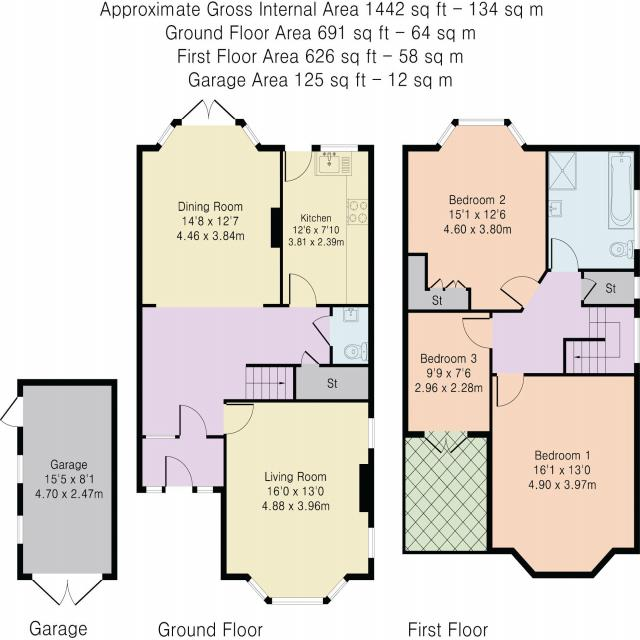DOOR: (498, 275, 541, 310), (223, 402, 255, 436), (284, 145, 313, 182), (165, 455, 193, 493), (461, 317, 493, 350), (550, 237, 579, 272), (288, 273, 317, 308), (496, 373, 525, 407), (179, 404, 207, 439), (311, 315, 333, 347)
DOUBLE DOOR: (174, 92, 239, 125)
ROOM: (486, 373, 640, 579), (221, 399, 375, 605), (136, 97, 283, 308), (402, 118, 549, 313), (271, 145, 374, 308), (402, 309, 493, 455)
WINDOW: (247, 577, 269, 602), (326, 577, 348, 602), (436, 122, 456, 148), (507, 122, 526, 148), (156, 123, 176, 147), (242, 123, 261, 148), (633, 189, 640, 250), (271, 597, 324, 605), (458, 118, 505, 126), (633, 317, 640, 364), (320, 144, 359, 152), (368, 527, 375, 559), (368, 417, 375, 449), (633, 276, 640, 299), (146, 486, 162, 494), (145, 435, 176, 439), (197, 486, 214, 493)
